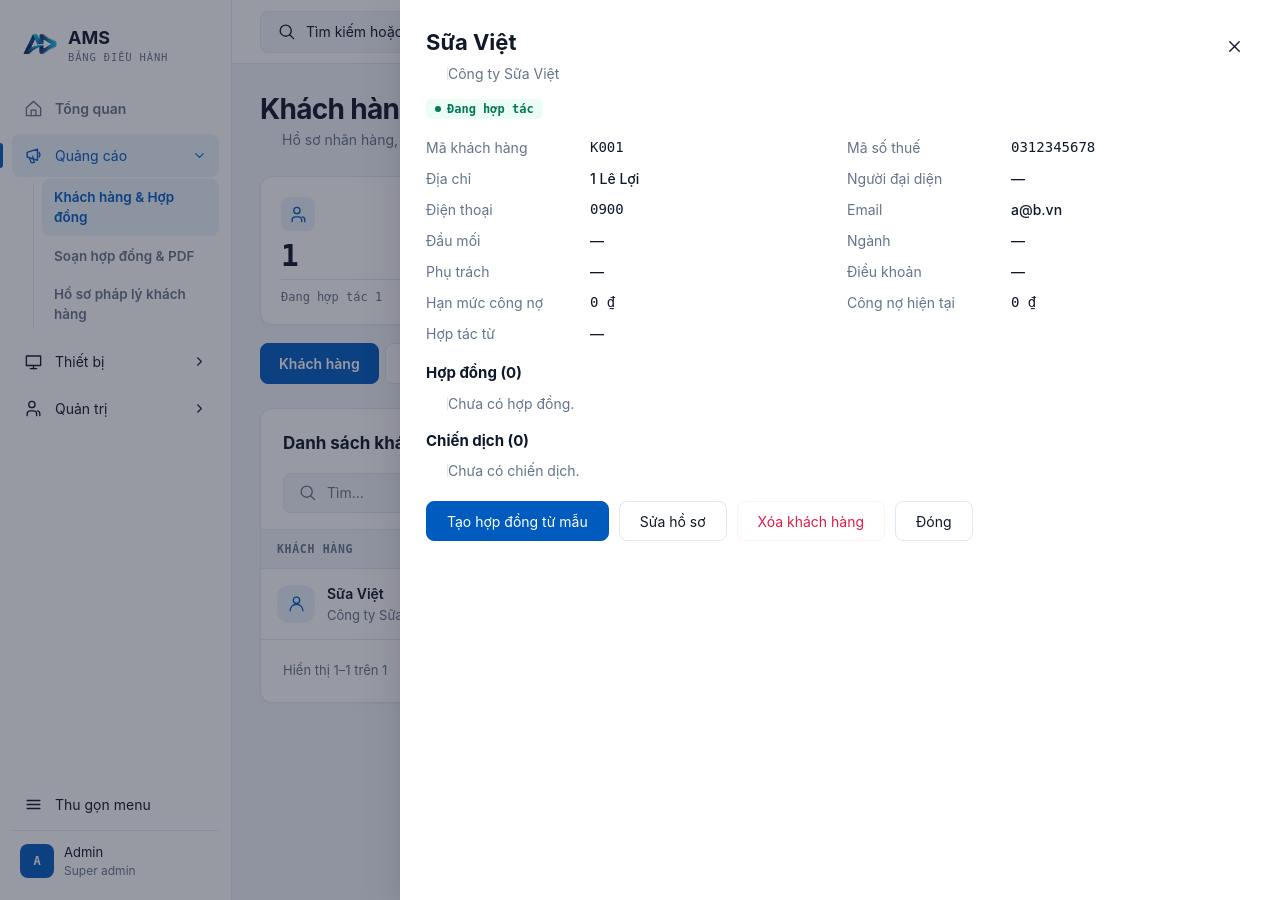
Scenario: Customers: sua / xoa › Xoa bi chan: hien day du ly do (chien dich, so du vi, cong no) va khong con nut xoa
What coordinates should you click on to do the following:
click the button "Xóa khách hàng"
I would click on:
 (811, 521)
Its box is [736, 501, 885, 541].
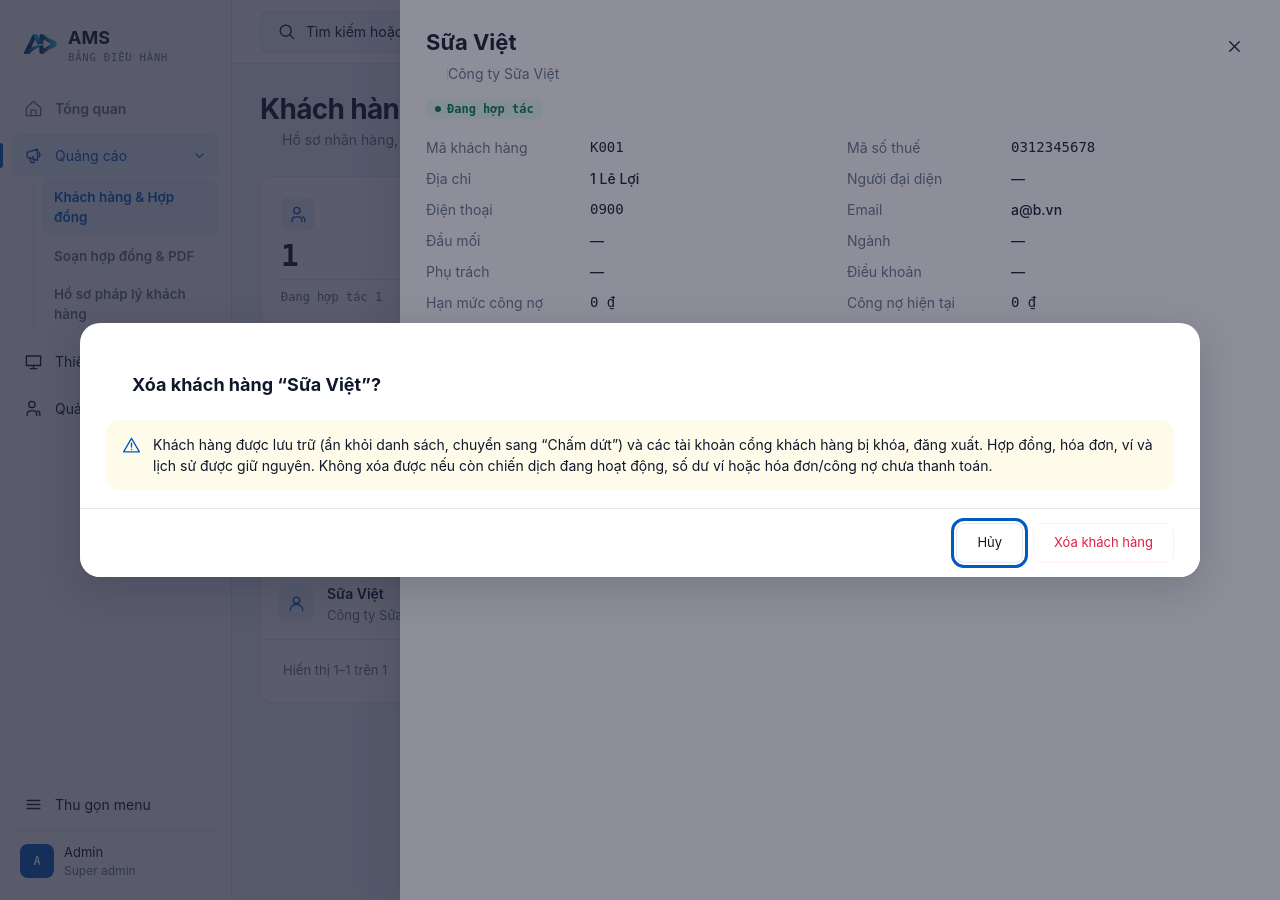
What coordinates should you click on to do the following:
click the button "Xóa khách hàng"
I would click on:
 (1104, 543)
Its box is [1033, 523, 1174, 563].
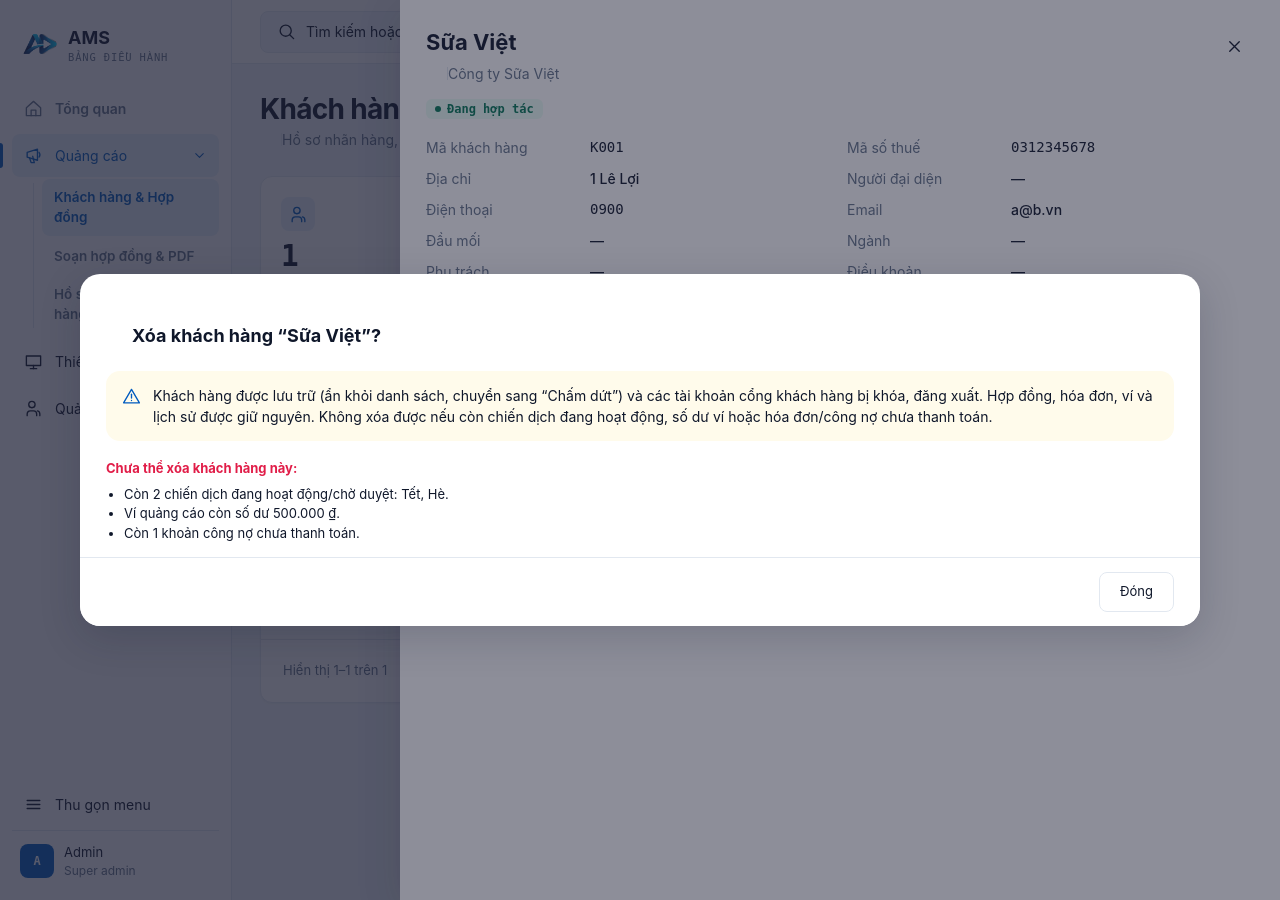
Expected: the message shows "Chưa thể xóa khách hàng này", [106, 460, 297, 476]
Expected: the message shows "2 chiến dịch", [124, 486, 449, 502]
Expected: the message shows "500.000", [124, 505, 340, 521]
